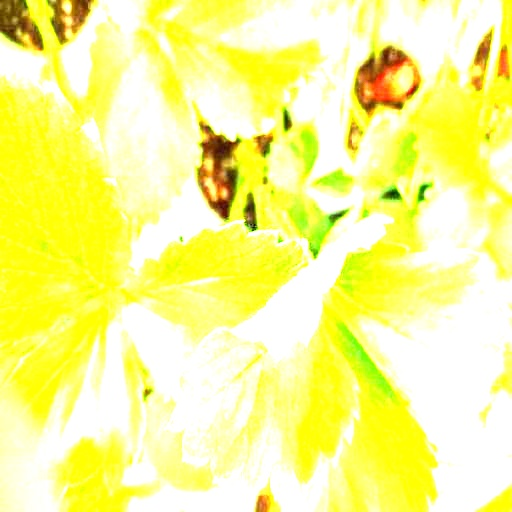Powdery Mildew Leaf: (164, 214, 395, 500)
